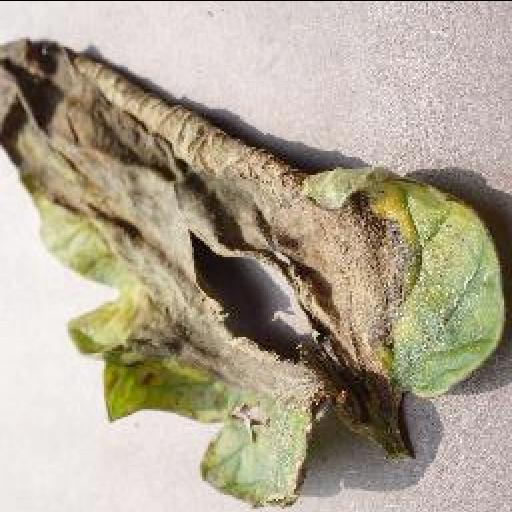disease_tomato: (0, 36, 512, 510)
